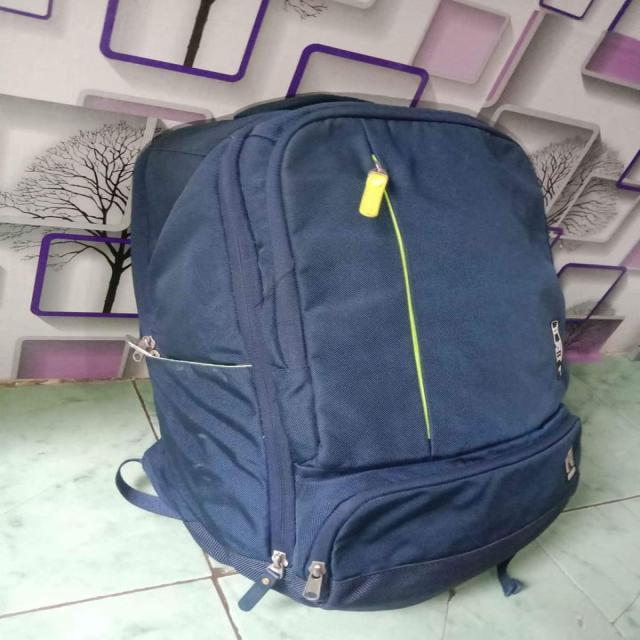bag: (123, 87, 580, 602)
